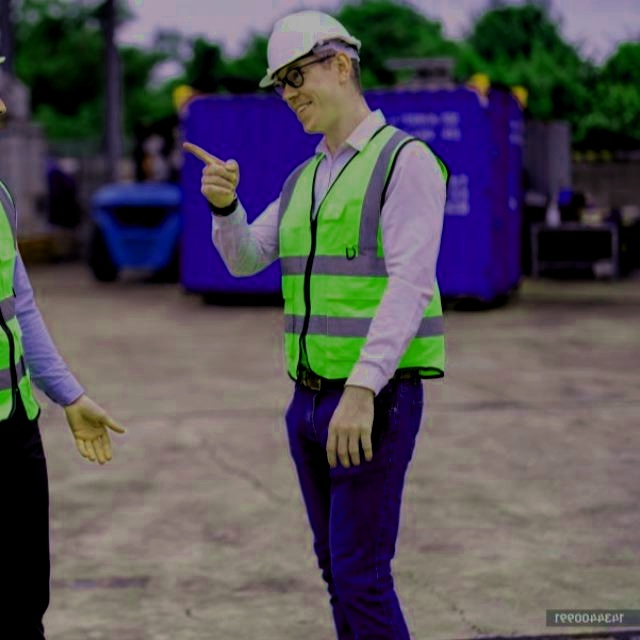Con_Casco: (259, 9, 361, 139)
Con_Chaleco: (277, 123, 444, 392)
